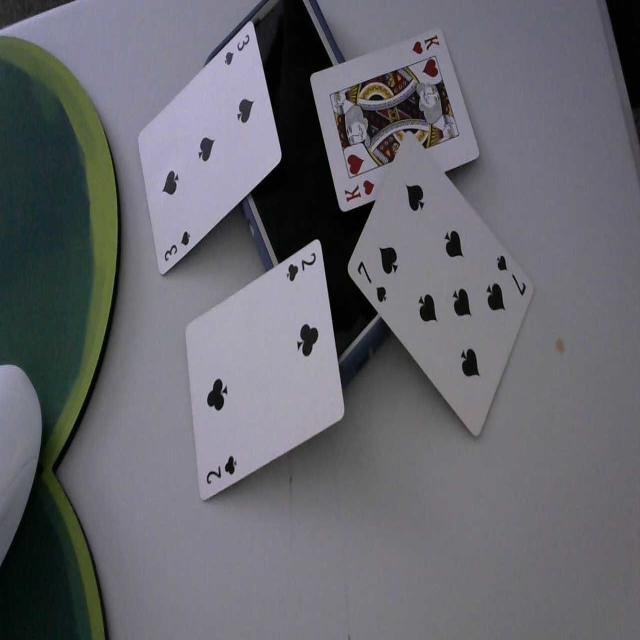2C: (204, 454, 240, 486), (286, 252, 317, 282)
3S: (162, 228, 192, 264), (222, 30, 250, 67)
7S: (494, 253, 528, 299), (356, 258, 388, 306)
KH: (345, 176, 375, 204), (410, 33, 442, 58)
